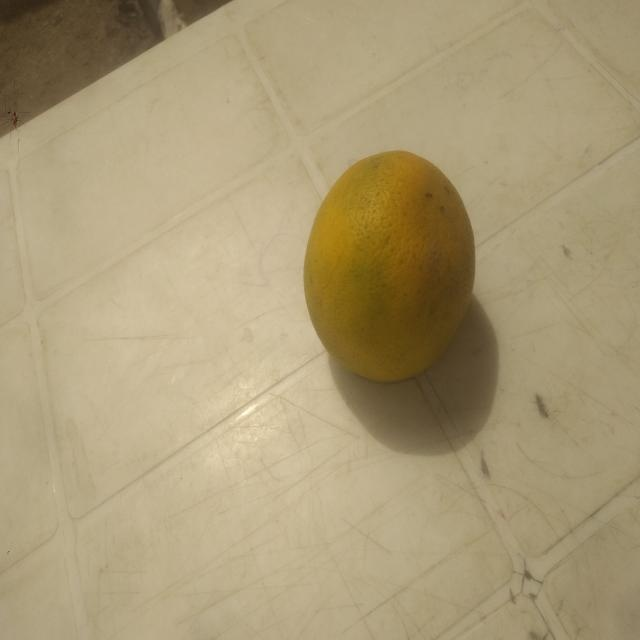agrume: (294, 117, 518, 441)
